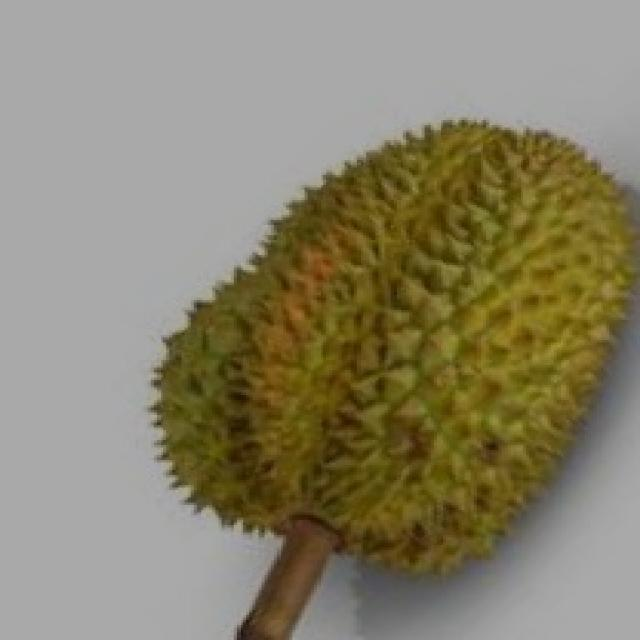fruit: (274, 225, 640, 625), (108, 232, 455, 620)
